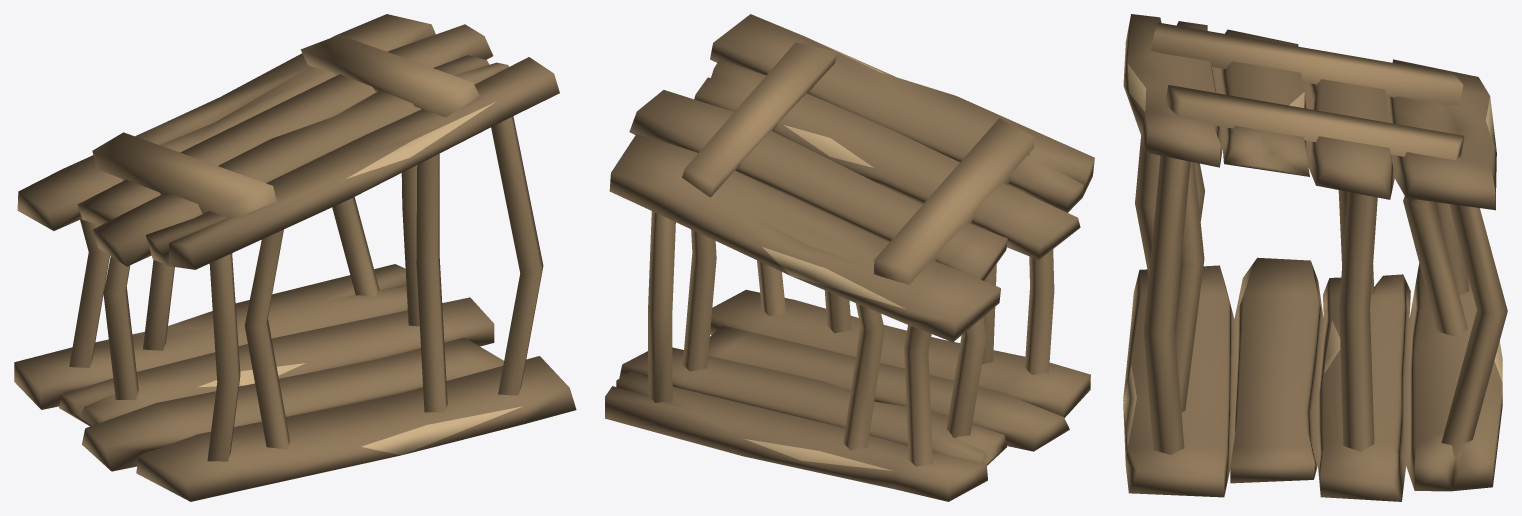
The model's file is rpgpp_av_cage_02a.gltf.
3 renders of one model, left to right at view 1: azimuth 30°, elevation 25°; view 2: azimuth 150°, elevation 25°; view 3: azimuth 270°, elevation 25°, orthographic. The views are drawn at different scales.
Parts seen in each view (by area): view 1: rpgpp_av_cage_02a; view 2: rpgpp_av_cage_02a; view 3: rpgpp_av_cage_02a.
Part boxes in pixels (x1=…): rpgpp_av_cage_02a: x1=14, y1=14, x2=576, y2=501; rpgpp_av_cage_02a: x1=605, y1=14, x2=1094, y2=501; rpgpp_av_cage_02a: x1=1123, y1=14, x2=1507, y2=501.
Bounding box in the file's own units: 0.0108 × 0.00795 × 0.00777.
1 material, 1 textured.
